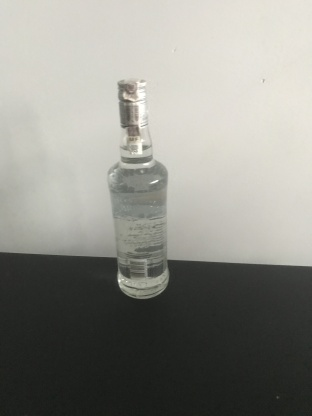nakretka: (116, 77, 150, 129)
